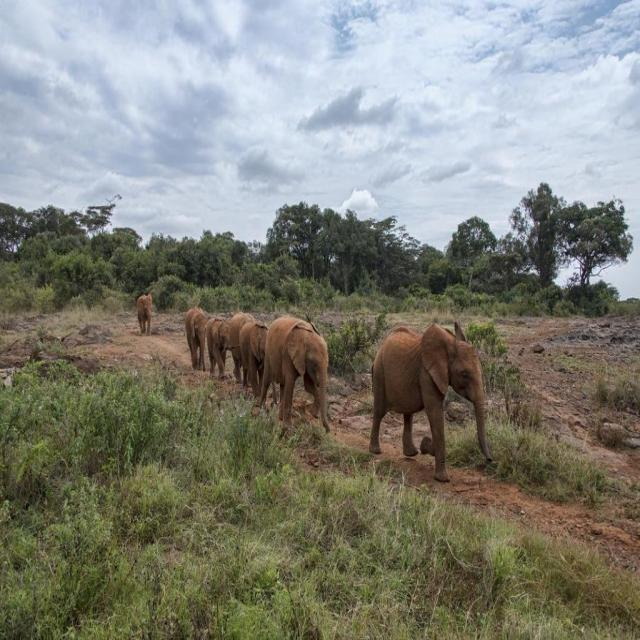elephant: (359, 321, 495, 475), (254, 314, 335, 438), (239, 321, 272, 411), (232, 314, 253, 393), (206, 310, 230, 378), (190, 309, 204, 374), (140, 294, 154, 339)
